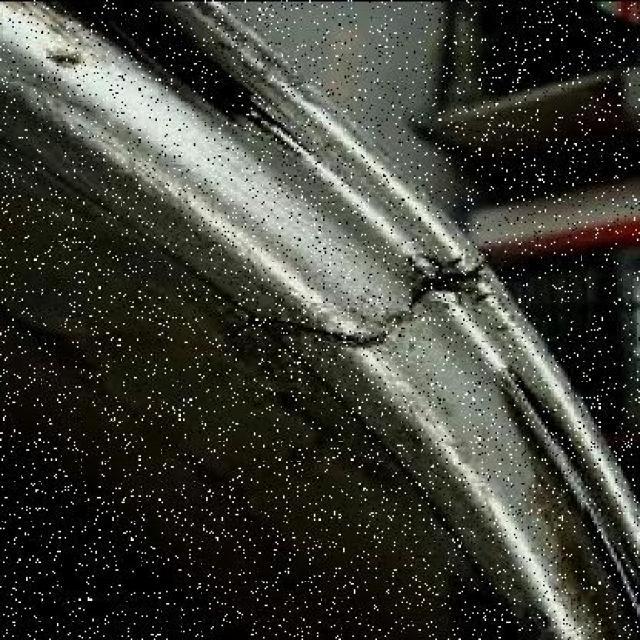Defect: (241, 247, 508, 361)
